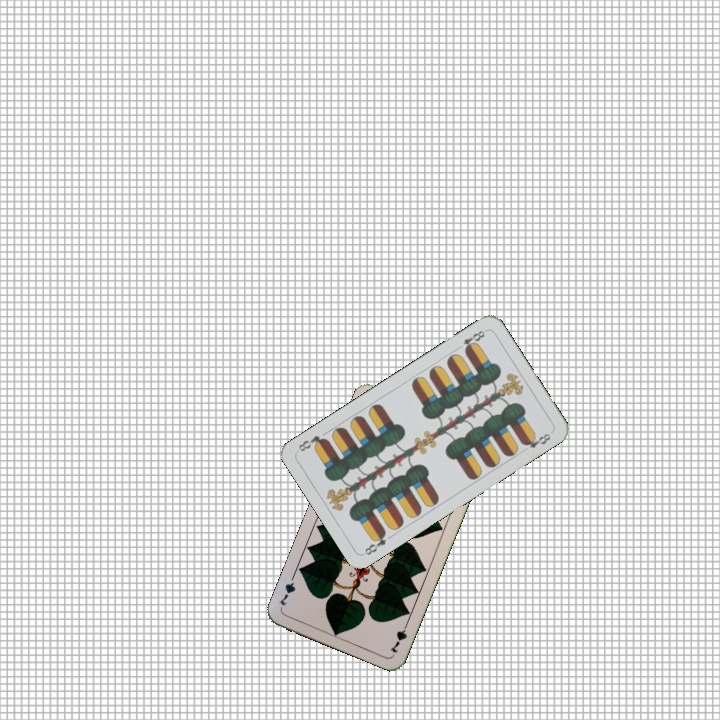E8: (360, 527, 389, 558), (458, 326, 489, 354)
G7: (386, 617, 411, 656)
